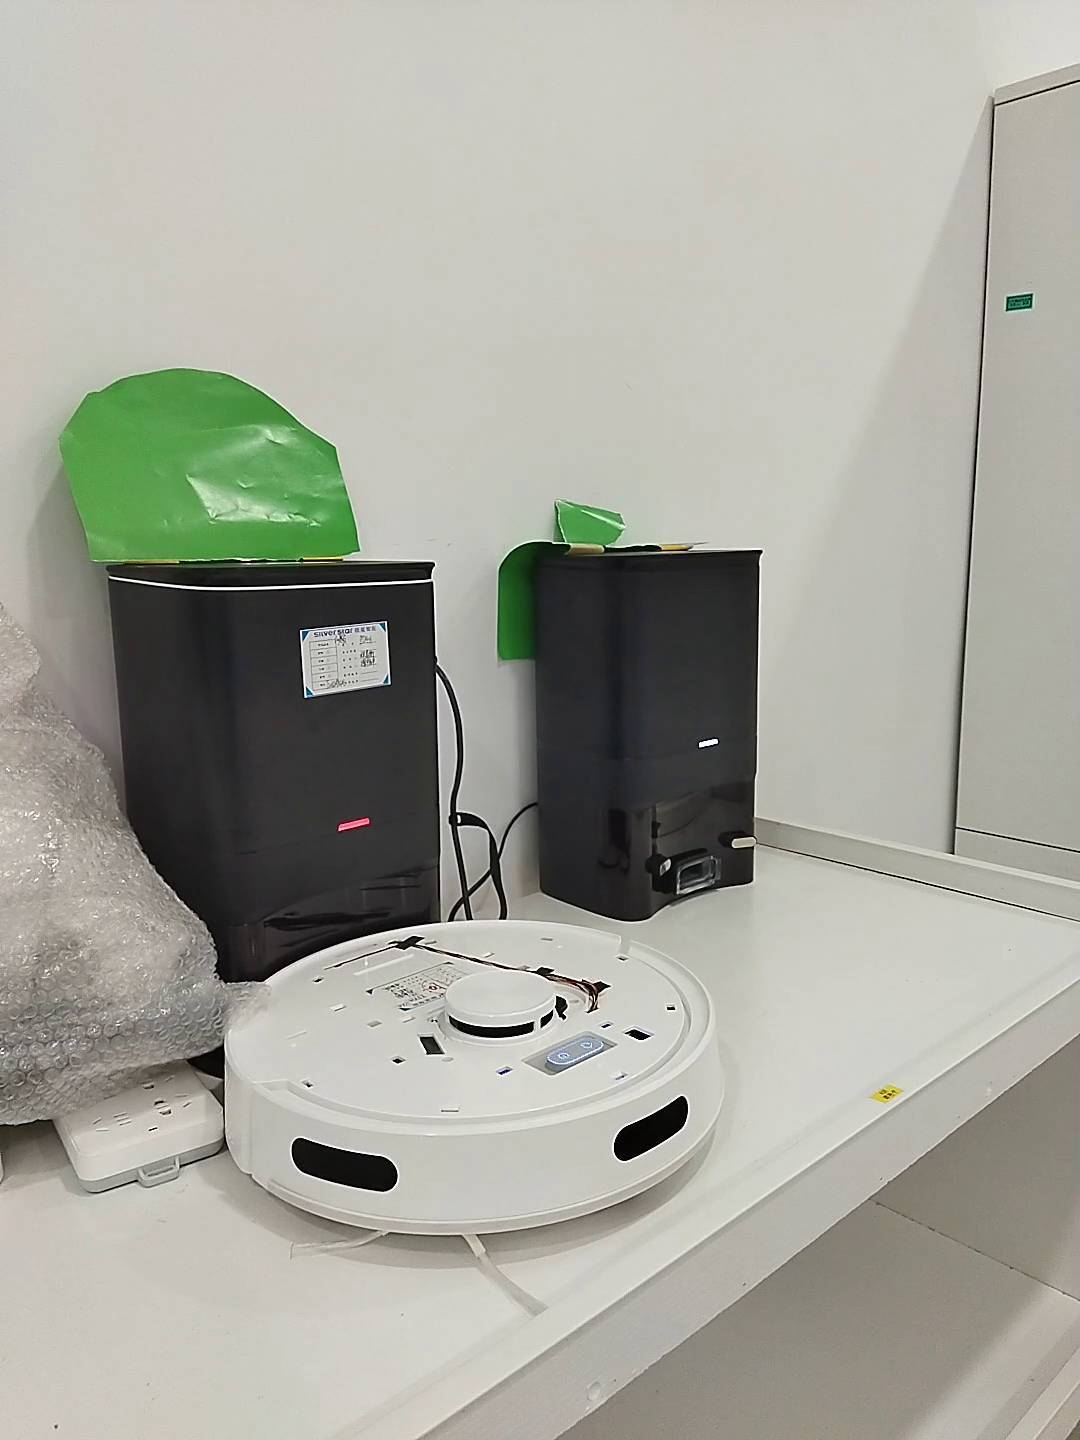dust collecting barrel: (106, 561, 442, 982), (534, 548, 767, 925)
